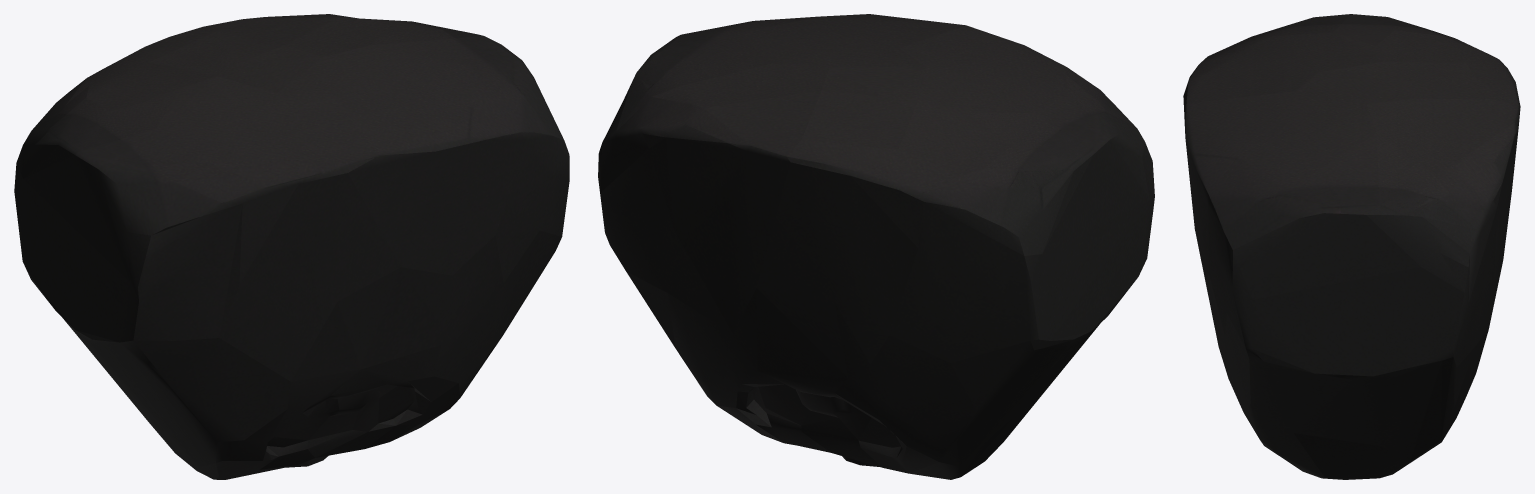
The model's file is sconce_ai.glb.
The picture shows the model from 3 angles, left to right: view 1: azimuth 30°, elevation 25°; view 2: azimuth 150°, elevation 25°; view 3: azimuth 270°, elevation 25°; orthographic projection. The views are drawn at different scales.
Size of the model in its own units: 1.9 by 1.58 by 1.36.
1 material, 1 textured.
